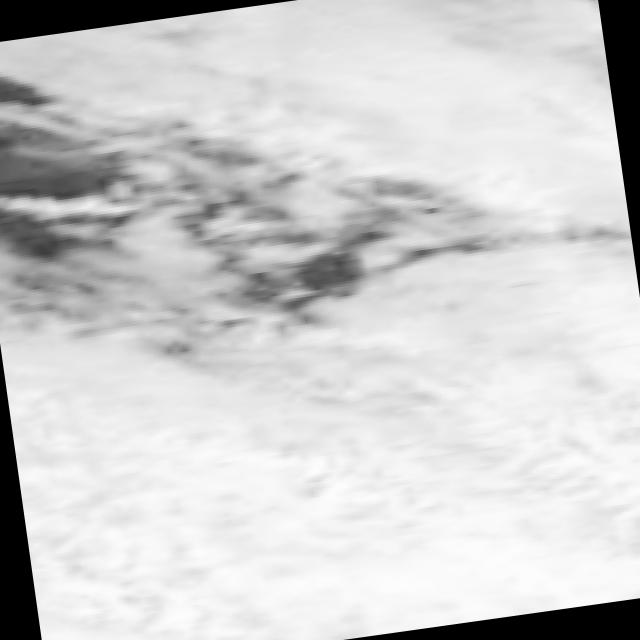CB: (15, 418, 280, 640), (374, 0, 625, 222), (431, 365, 640, 623), (251, 397, 466, 640), (411, 190, 640, 399), (195, 0, 392, 147)
